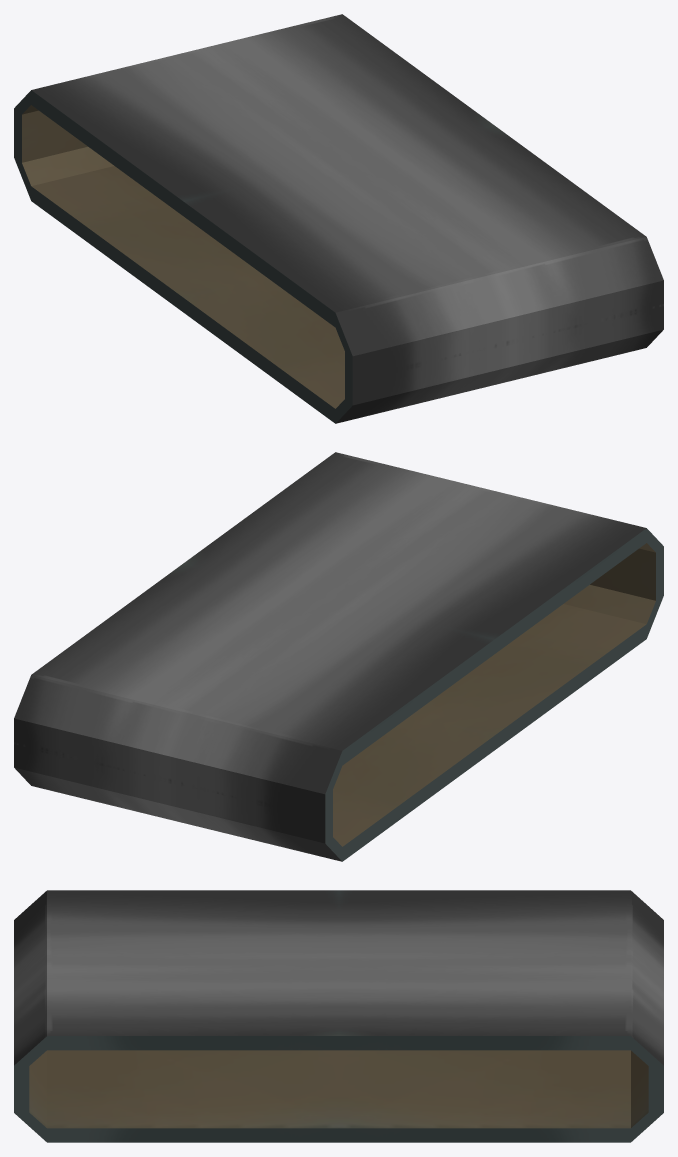
The model's file is assembler-belt.fbx.
The picture shows the model from 3 angles, top to bottom: view 1: azimuth 30°, elevation 25°; view 2: azimuth 150°, elevation 25°; view 3: azimuth 270°, elevation 25°; orthographic projection. The views are drawn at different scales.
Visible parts, largest first — view 1: assembler-belt; view 2: assembler-belt; view 3: assembler-belt.
Boxes of the visible parts, x1,y1,x2,y2 form: assembler-belt: (14,14,663,423); assembler-belt: (14,452,663,861); assembler-belt: (14,890,663,1142).
Size of the model in its own units: 236 by 80.52 by 445.
